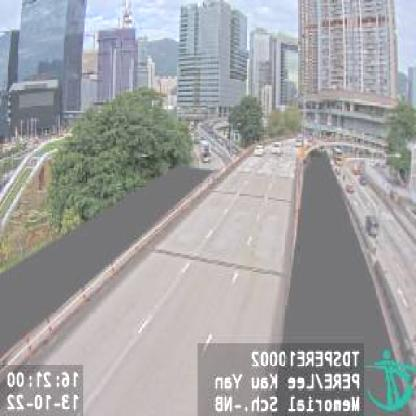Car: (365, 214, 380, 236)
